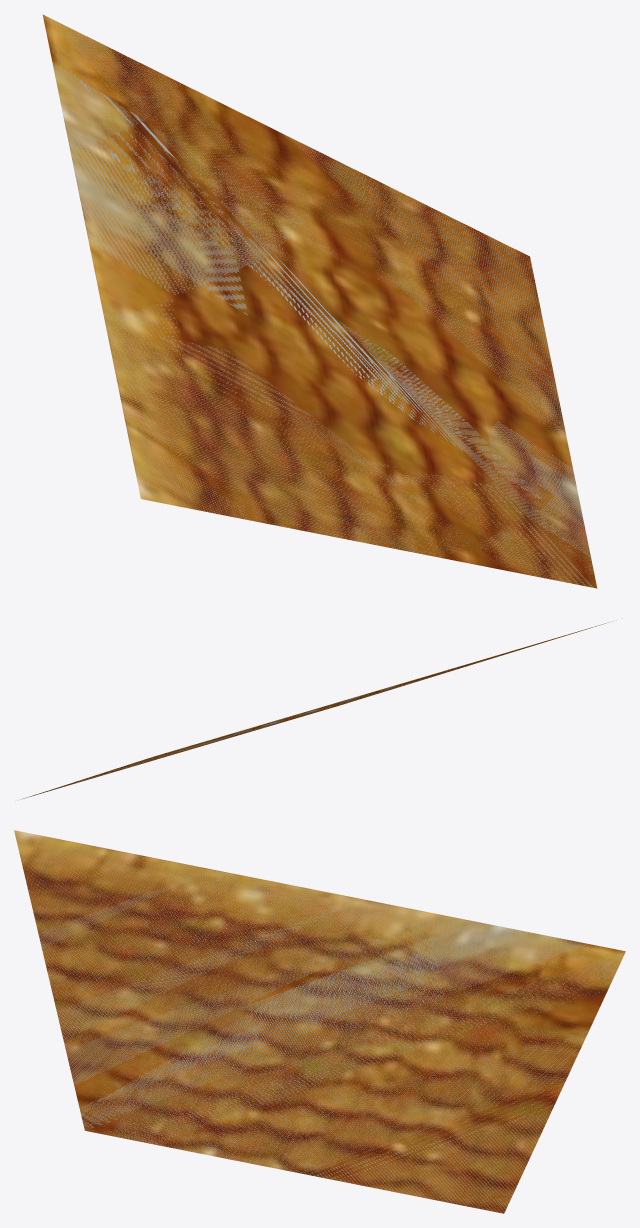
Rendered from 西庸城堡558.dae.
3 views of the same model, one above another, from view 1: azimuth 30°, elevation 25°; view 2: azimuth 150°, elevation 25°; view 3: azimuth 270°, elevation 25° (orthographic). The views are drawn at different scales.
Parts seen in each view (by area): view 1: SketchUp; view 2: SketchUp; view 3: SketchUp.
Part boxes in pixels (x1=…): SketchUp: x1=42, y1=14, x2=597, y2=588; SketchUp: x1=21, y1=620, x2=616, y2=799; SketchUp: x1=14, y1=830, x2=625, y2=1213.
Size of the model in its own units: 74.95 by 83.89 by 23.07.
